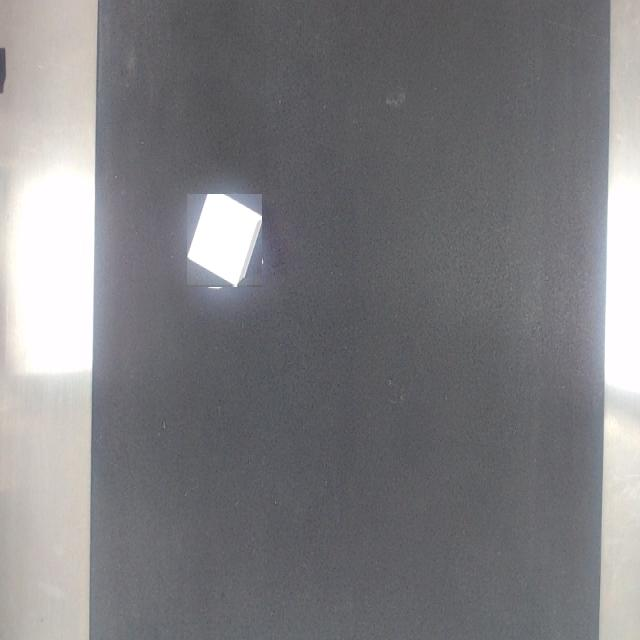Blanco: (187, 195, 262, 285)
